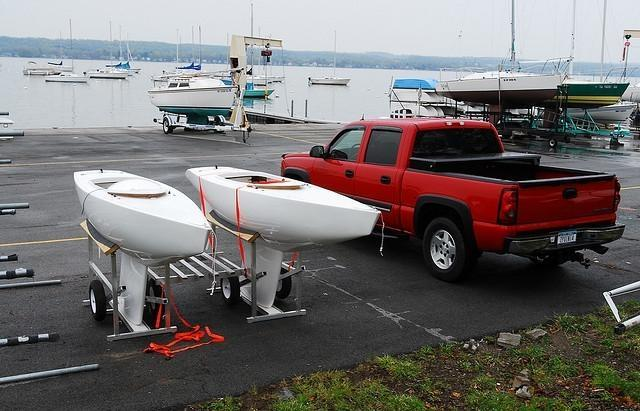truck: (280, 117, 630, 281)
